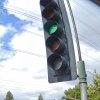traffic lights: (39, 0, 72, 83)
